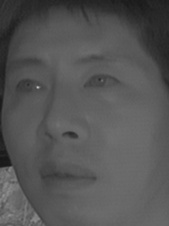eye: (81, 71, 122, 95), (12, 74, 51, 98)
mouth: (39, 159, 101, 194)
